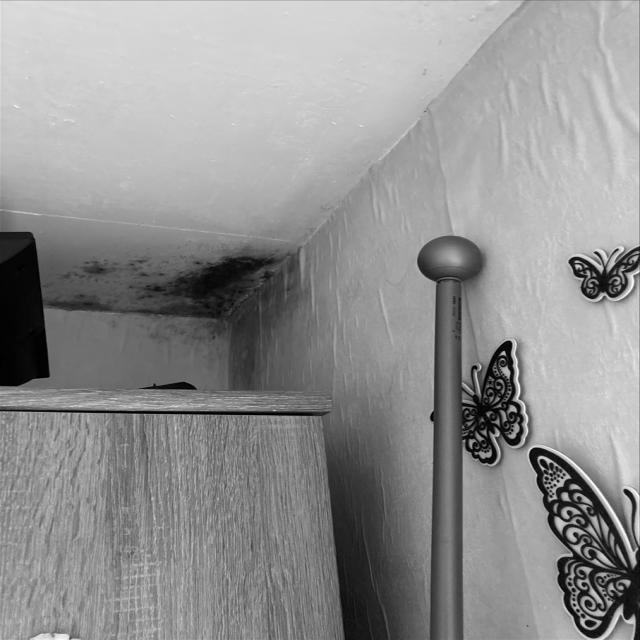stain marks: (42, 226, 330, 390)
